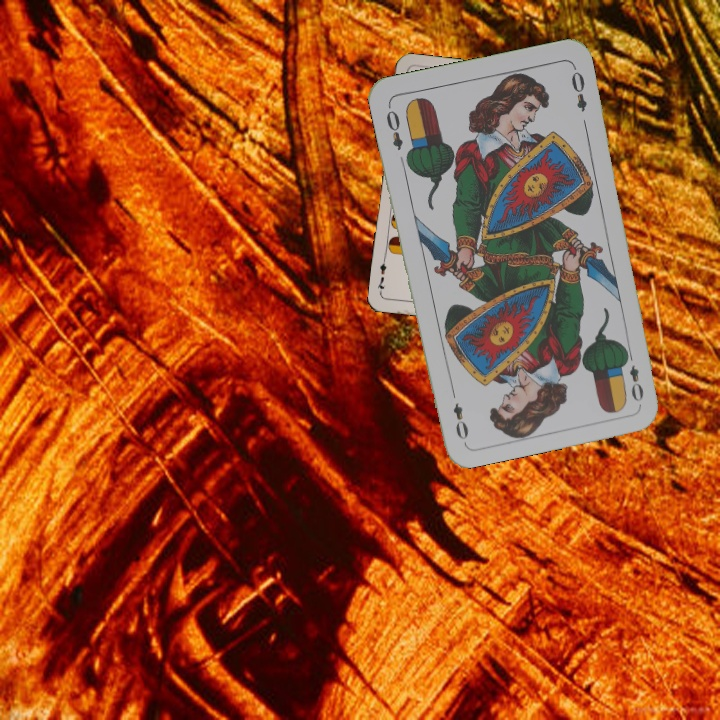EO: (620, 347, 646, 405), (382, 101, 406, 153)
